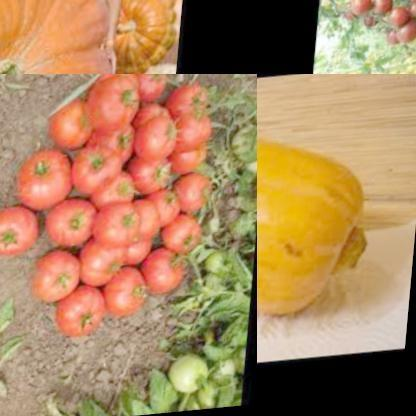pumpkin: (257, 87, 388, 351), (0, 0, 135, 74), (110, 0, 188, 74)
tomato: (16, 148, 85, 212), (333, 0, 416, 53), (89, 77, 147, 137), (36, 249, 92, 308), (61, 291, 113, 350), (74, 150, 128, 203), (0, 204, 46, 265), (49, 104, 104, 152), (147, 251, 197, 303), (170, 114, 222, 160), (52, 200, 98, 251), (78, 246, 131, 290), (112, 272, 156, 324), (138, 120, 188, 164), (101, 209, 149, 254), (168, 85, 216, 128), (174, 178, 219, 223), (96, 127, 141, 170), (98, 174, 146, 214), (168, 221, 212, 263), (135, 157, 176, 196), (152, 194, 186, 233), (135, 74, 176, 103), (176, 146, 212, 178)
